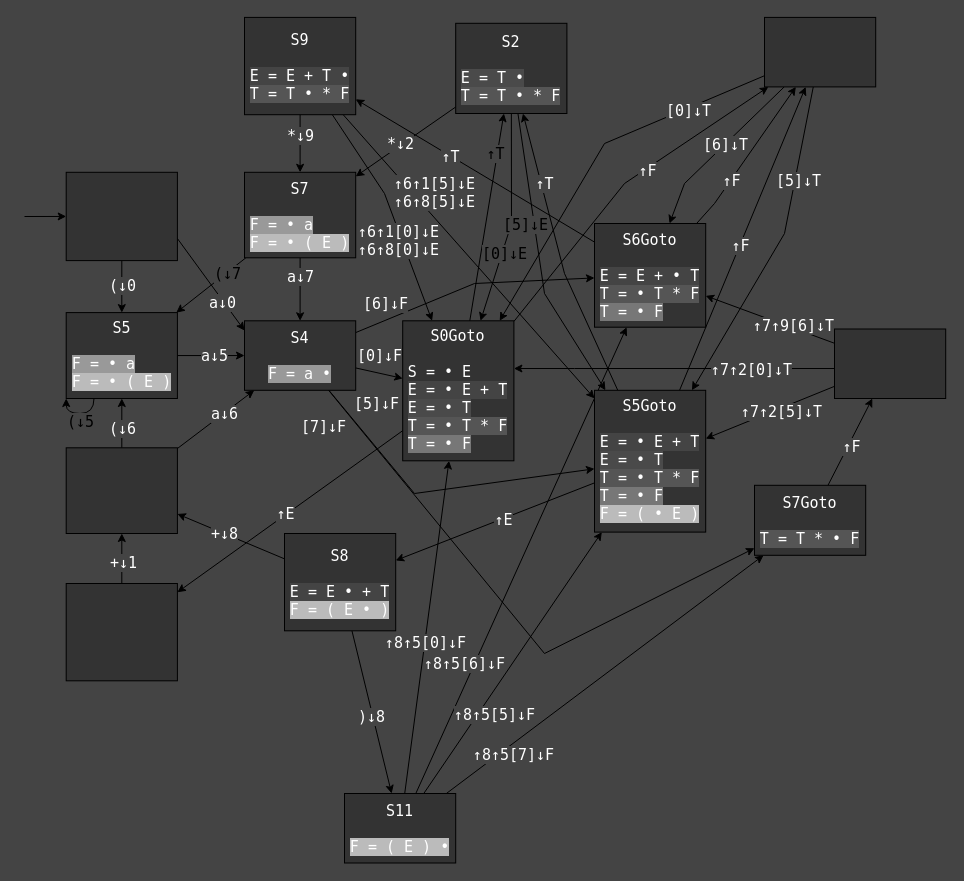
Some shapes in this 964 by 881 pixel diagram are drawn without their labels. Here are the shapes that lost their labels. From the top down, the centre of each, then its label:
[820,51]: S3 T = F •
[121,216]: S0 F = • a F = • ( E )
[890,363]: S10 T = T * F •
[121,490]: S6 F = • a F = • ( E )
[121,631]: S1 S = E • E = E • + T
